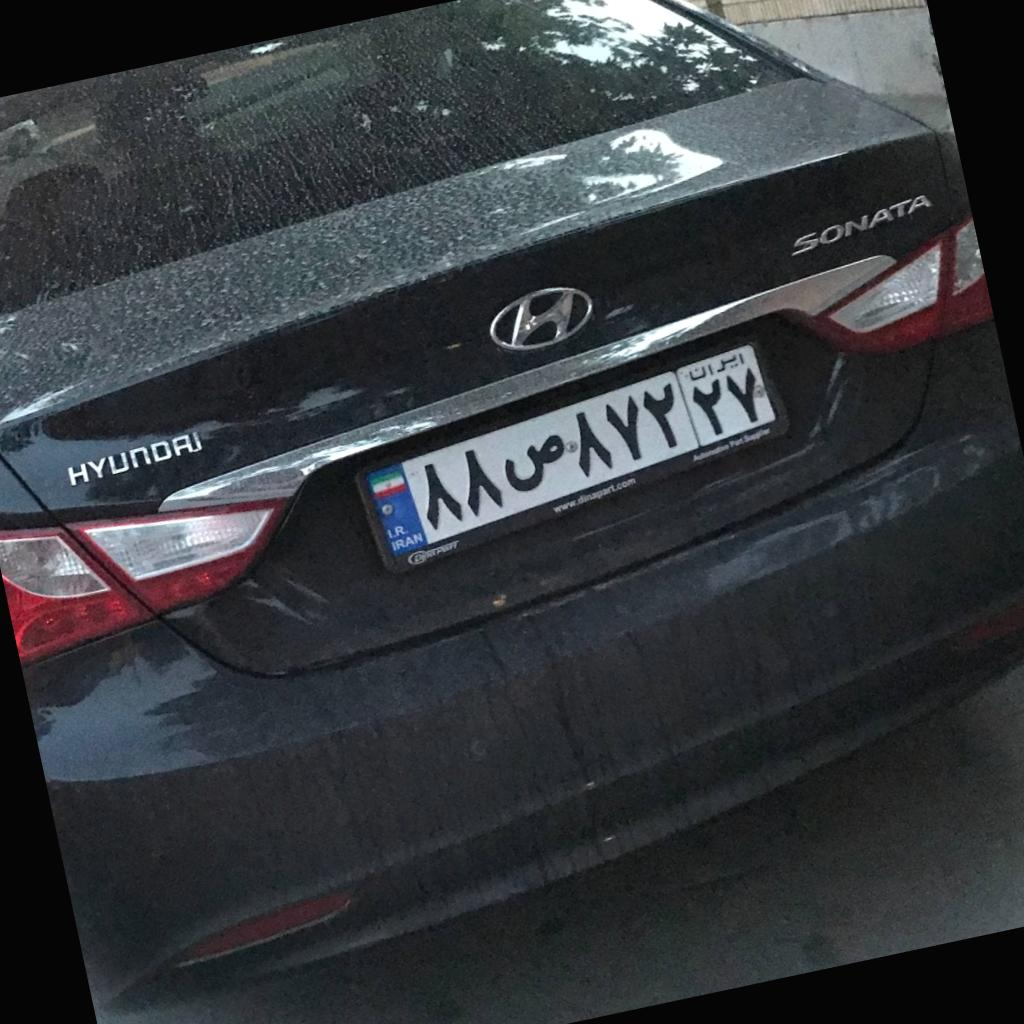Plates: (365, 345, 778, 557)
